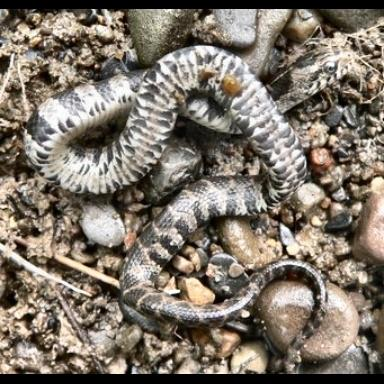snake: (23, 46, 313, 213)
